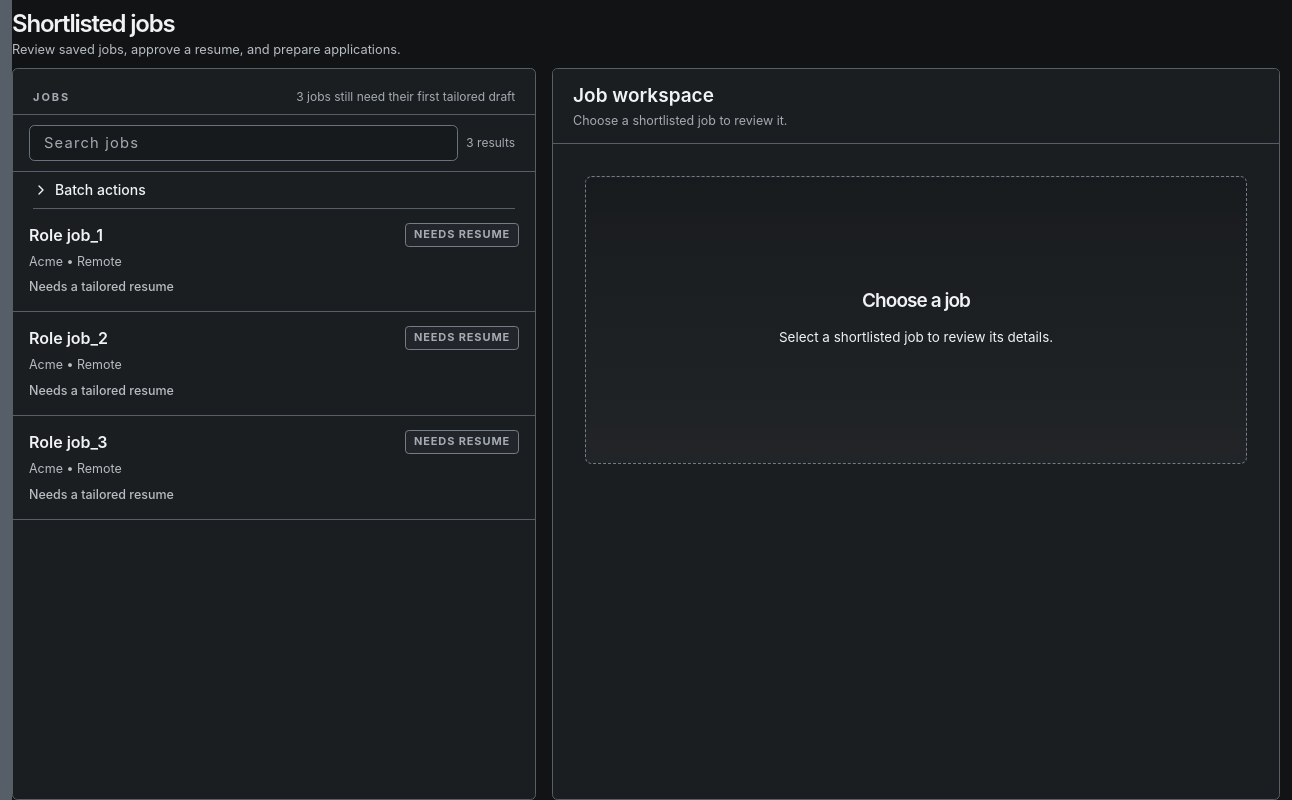
Scenario: ReviewQueueScreen tailored draft preparation (controlled) › renders the finished aggregate result from controller state
Click the heading "Batch actions".
click(89, 189)  # box [33,180,146,198]
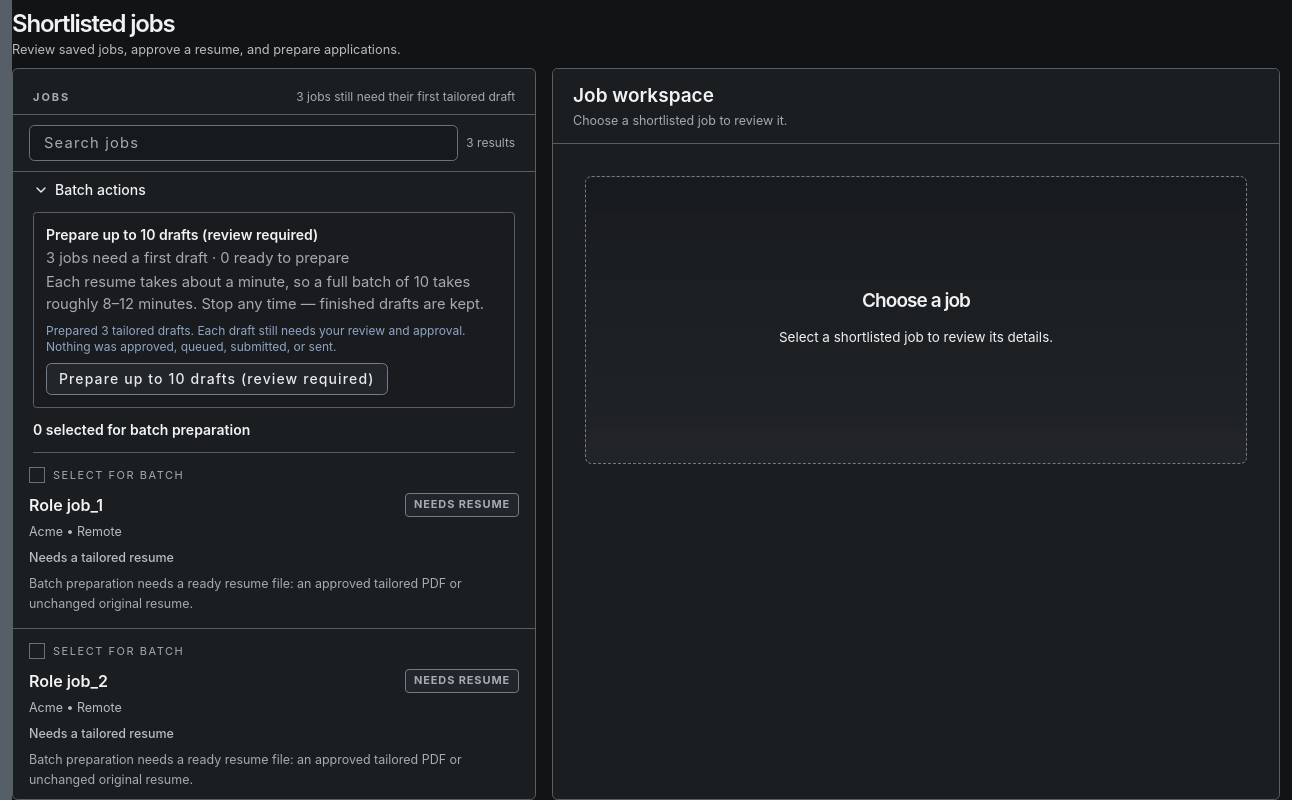
Expected: the text "Prepared 3 tailored drafts" is shown, [46,323,466,354]
